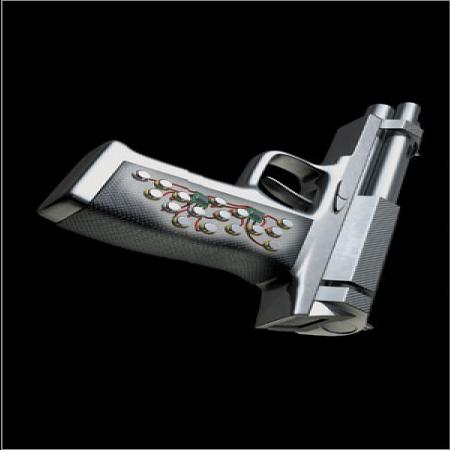Pistol: (39, 98, 427, 336)
